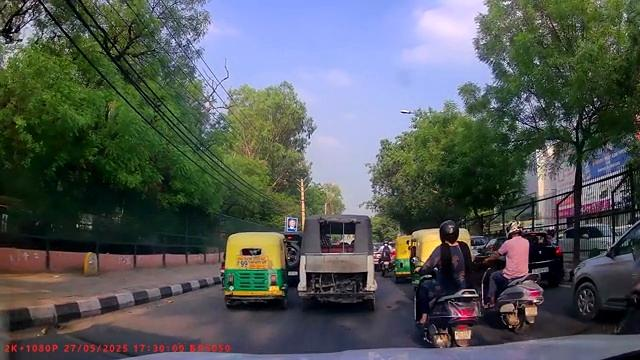motorcycle_with_helmet: (417, 223, 479, 347), (482, 220, 542, 335)
